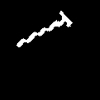half_double_crochet: (17, 11, 71, 46)
